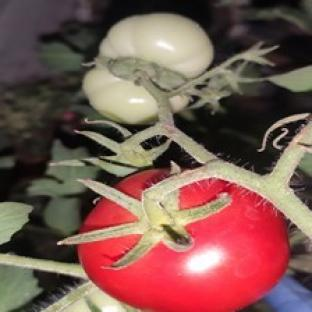Tomato: (78, 179, 289, 311), (99, 13, 213, 77), (83, 67, 158, 125), (65, 290, 126, 311)
